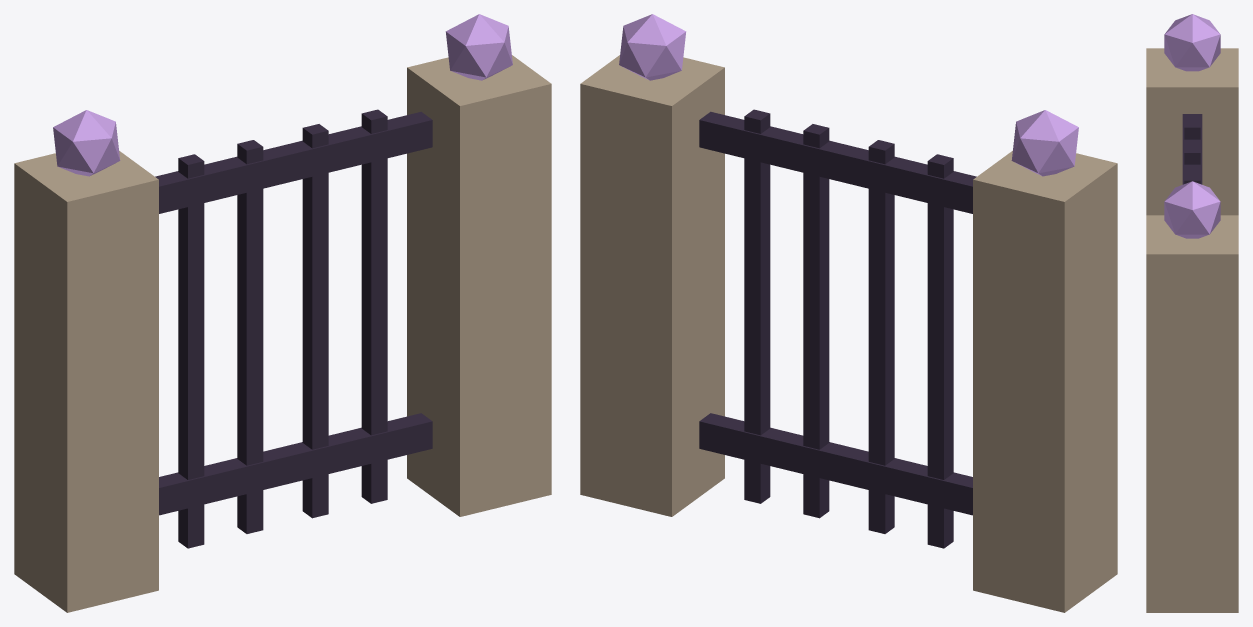
The model's file is gate.glb.
The picture shows the model from 3 angles, left to right: view 1: azimuth 30°, elevation 25°; view 2: azimuth 150°, elevation 25°; view 3: azimuth 270°, elevation 25°; orthographic projection. The views are drawn at different scales.
Parts seen in each view (by area): view 1: graveyard-gate; view 2: graveyard-gate; view 3: graveyard-gate.
Boxes of the visible parts, left/top/right/bottom form: graveyard-gate: left=14, top=14, right=551, bottom=612; graveyard-gate: left=580, top=14, right=1117, bottom=612; graveyard-gate: left=1146, top=14, right=1238, bottom=612.
Bounding box in the file's own units: 0.74 × 0.69 × 0.14.
